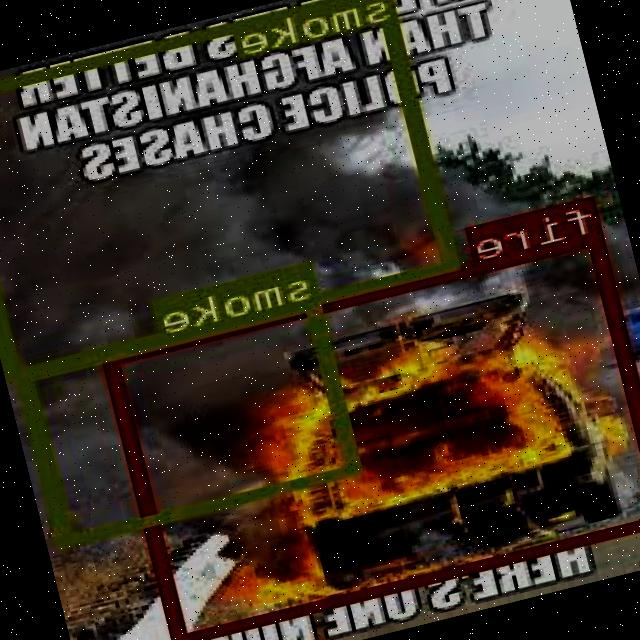fire: (104, 230, 640, 640)
smoke: (0, 0, 460, 377), (18, 296, 364, 545)
